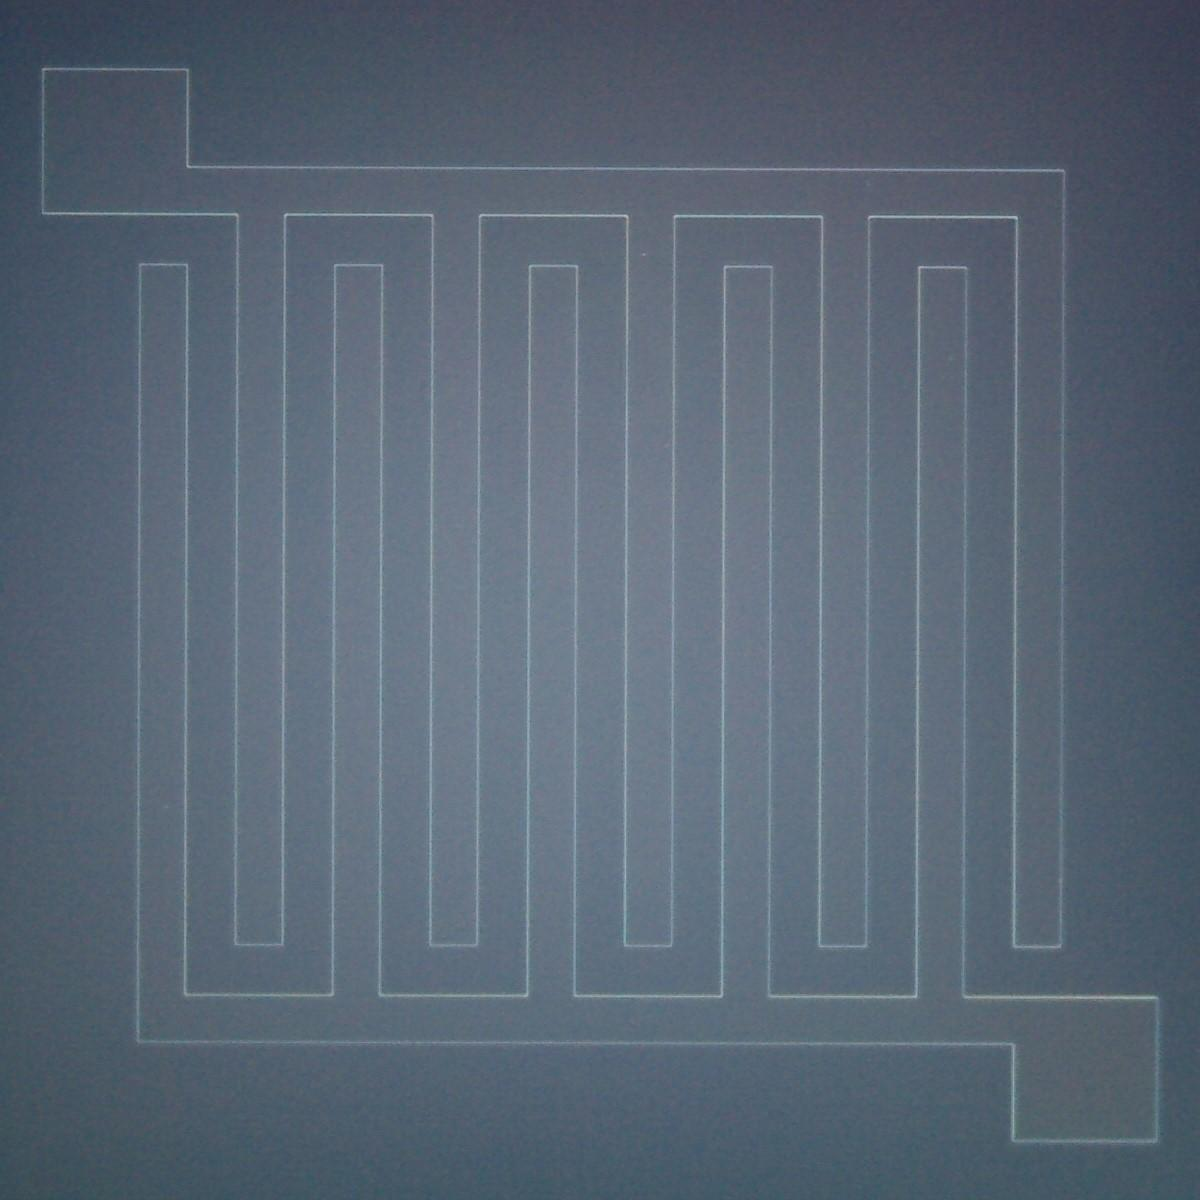s_point: (637, 247, 652, 262), (946, 355, 956, 365), (162, 802, 170, 811)
